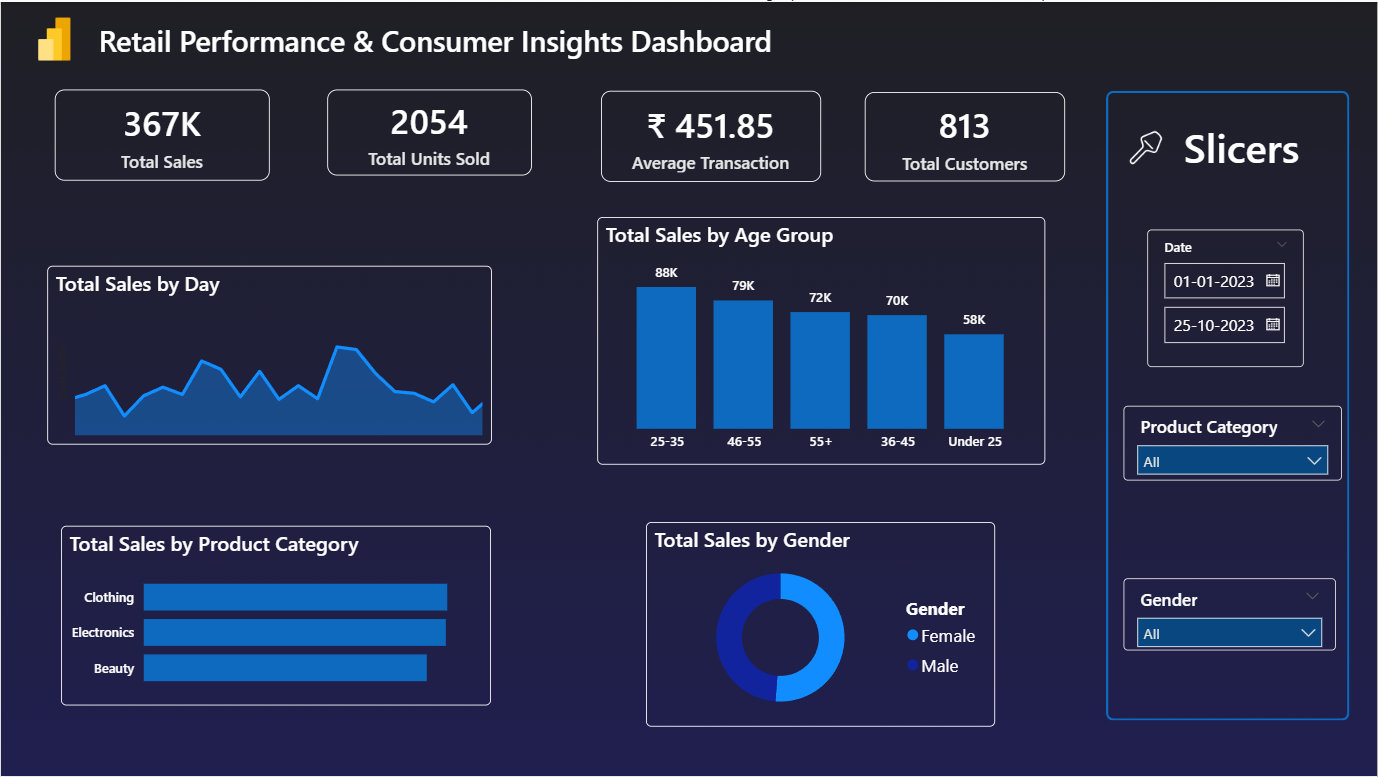

The page's visual inventory and layout, read from the dashboard file:
{"tool":"powerbi","page":{"name":"Page 1","canvas":[1280,720],"ordinal":0},"visuals":[{"type":"textbox","box":[86.4,12.3,657.3,46.7],"z":0},{"type":"card","fields":{"Values":["retail_sales_dataset.Total Sales"]},"box":[50,81.7,200,85],"z":1000},{"type":"card","fields":{"Values":["retail_sales_dataset.Total Units Sold"]},"box":[303.3,81.7,190,80],"z":2000},{"type":"card","fields":{"Values":["retail_sales_dataset.Total Customers"]},"box":[803.3,83.3,186.7,83.3],"z":3000},{"type":"card","fields":{"Values":["retail_sales_dataset.Average Transaction Value"]},"box":[558.5,82.3,204.5,85.1],"z":4000},{"type":"areaChart","fields":{"Category":["Calendar.Date.Variation.Date Hierarchy.Day"],"Y":["retail_sales_dataset.Total Sales"]},"box":[43.3,245.6,413.3,166.7],"z":5000},{"type":"clusteredBarChart","fields":{"Category":["retail_sales_dataset.Product Category"],"Y":["retail_sales_dataset.Total Sales"]},"box":[55.7,487.1,400,167.1],"z":6000},{"type":"shape","box":[1027.8,82.3,226.4,585.9],"z":7000},{"type":"donutChart","fields":{"Category":["retail_sales_dataset.Gender"],"Y":["retail_sales_dataset.Total Sales"]},"box":[600,483.3,325,190],"z":8000},{"type":"columnChart","fields":{"Category":["retail_sales_dataset.Age Group"],"Y":["retail_sales_dataset.Total Sales"]},"box":[555,200,416.7,230],"z":9000},{"type":"slicer","fields":{"Values":["retail_sales_dataset.Product Category"]},"box":[1044.3,376,203.1,70],"z":10000},{"type":"slicer","fields":{"Values":["retail_sales_dataset.Gender"]},"box":[1044.3,536.5,197.6,67.2],"z":11000},{"type":"slicer","fields":{"Values":["Calendar.Date"]},"box":[1066.2,211.3,145.5,127.6],"z":12000},{"type":"textbox","box":[1095,104.3,134.5,63.1],"z":13000},{"type":"image","box":[12.3,11,74.1,48],"z":14000},{"type":"image","box":[1031.9,118,67.2,35.7],"z":15000}]}

Visuals, with their boxes in screenshot pixels (x1, y1, x2, y2), scaled from the page's 1280x720 canvas onto the 1378x777 screenshot:
textbox: (93,13,801,64)
card - retail_sales_dataset.Total Sales: (54,88,269,180)
card - retail_sales_dataset.Total Units Sold: (327,88,531,175)
card - retail_sales_dataset.Total Customers: (865,90,1066,180)
card - retail_sales_dataset.Average Transaction Value: (601,89,821,181)
areaChart - Calendar.Date.Variation.Date Hierarchy.Day x retail_sales_dataset.Total Sales: (47,265,492,445)
clusteredBarChart - retail_sales_dataset.Product Category x retail_sales_dataset.Total Sales: (60,526,491,706)
shape: (1106,89,1350,721)
donutChart - retail_sales_dataset.Gender x retail_sales_dataset.Total Sales: (646,522,996,727)
columnChart - retail_sales_dataset.Age Group x retail_sales_dataset.Total Sales: (597,216,1046,464)
slicer - retail_sales_dataset.Product Category: (1124,406,1343,481)
slicer - retail_sales_dataset.Gender: (1124,579,1337,651)
slicer - Calendar.Date: (1148,228,1304,366)
textbox: (1179,113,1324,181)
image: (13,12,93,64)
image: (1111,127,1183,166)
